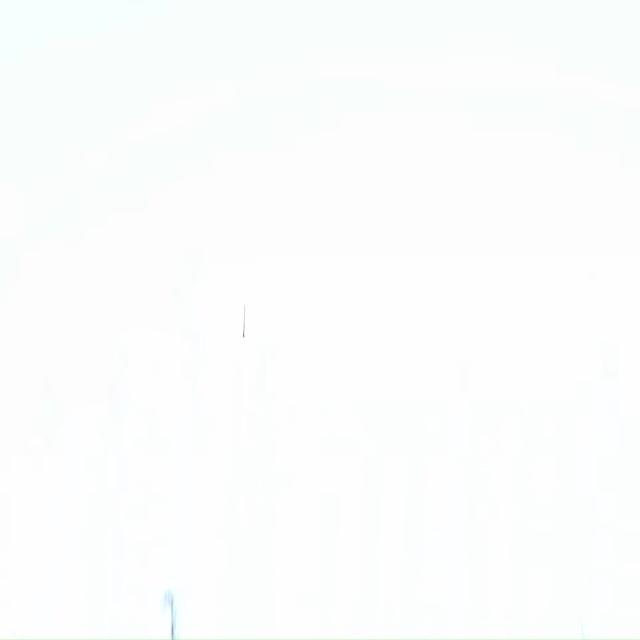Rocket: (243, 304, 245, 338)
